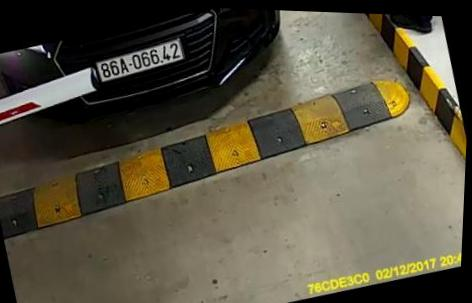License_Plate: (90, 35, 189, 83)
